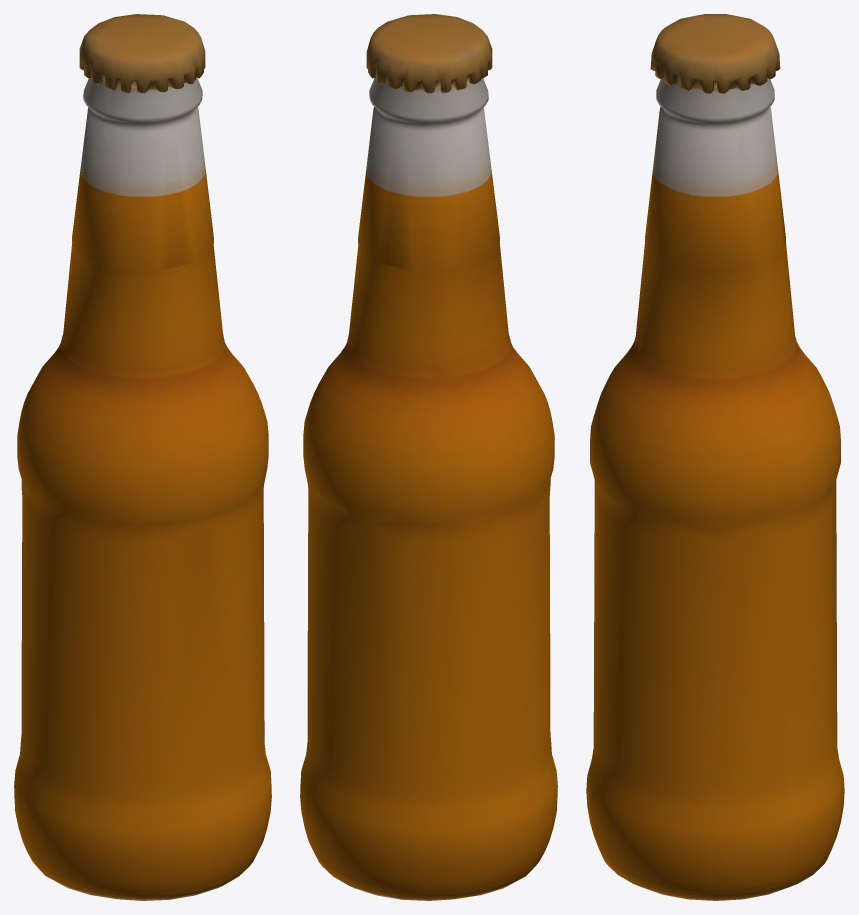
File: BeerBottle4.glb
The picture shows the model from 3 angles, left to right: view 1: azimuth 30°, elevation 25°; view 2: azimuth 150°, elevation 25°; view 3: azimuth 270°, elevation 25°; orthographic projection.
Visible parts, largest first — view 1: BeerBottle4; view 2: BeerBottle4; view 3: BeerBottle4.
Boxes of the visible parts, x1,y1,x2,y2 form: BeerBottle4: (14, 14, 271, 900); BeerBottle4: (300, 14, 557, 900); BeerBottle4: (586, 14, 844, 900).
Bounding box in the file's own units: 0.5409 × 1.9 × 0.5409.
1 material, 1 textured.
